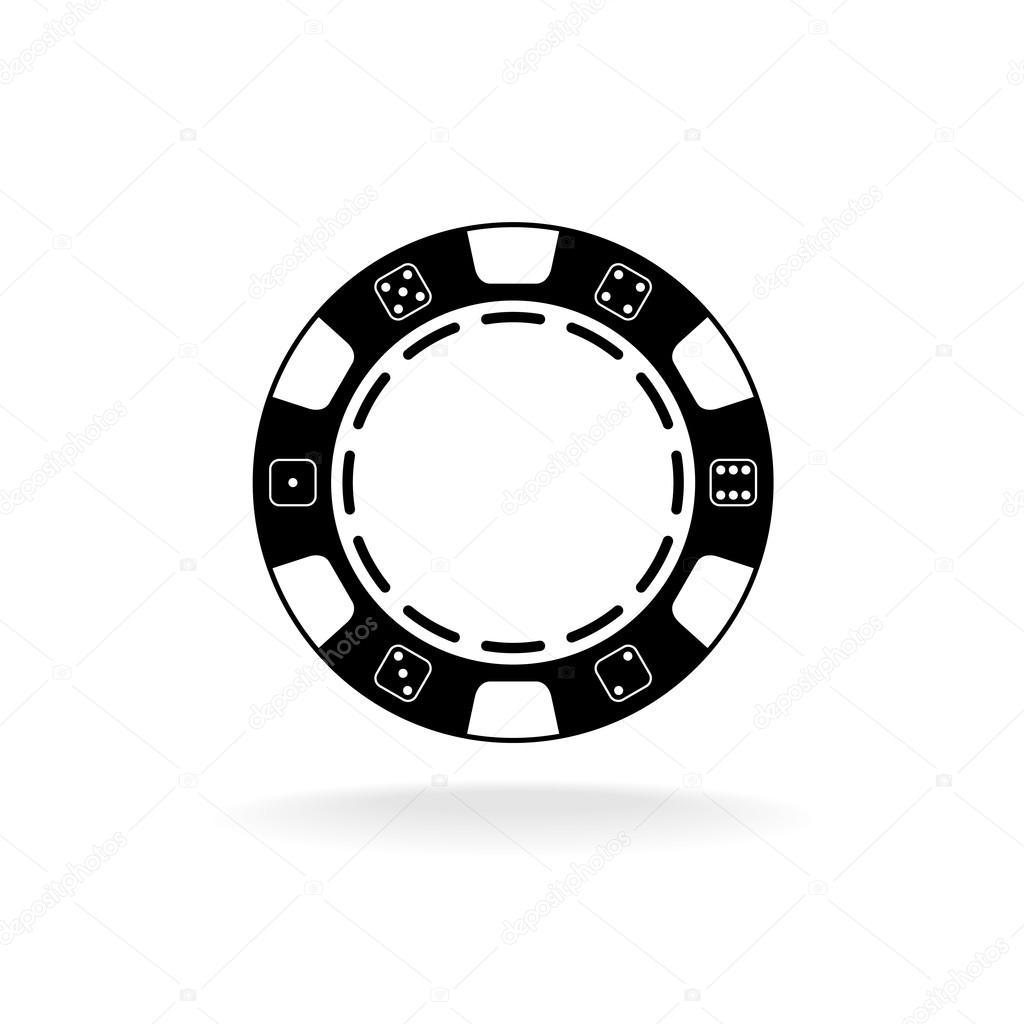chip-black: (254, 224, 772, 741)
